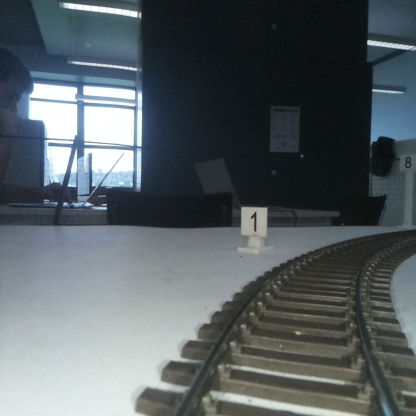white-info-8: (400, 155, 415, 227)
white-stop-1: (241, 207, 267, 252)
